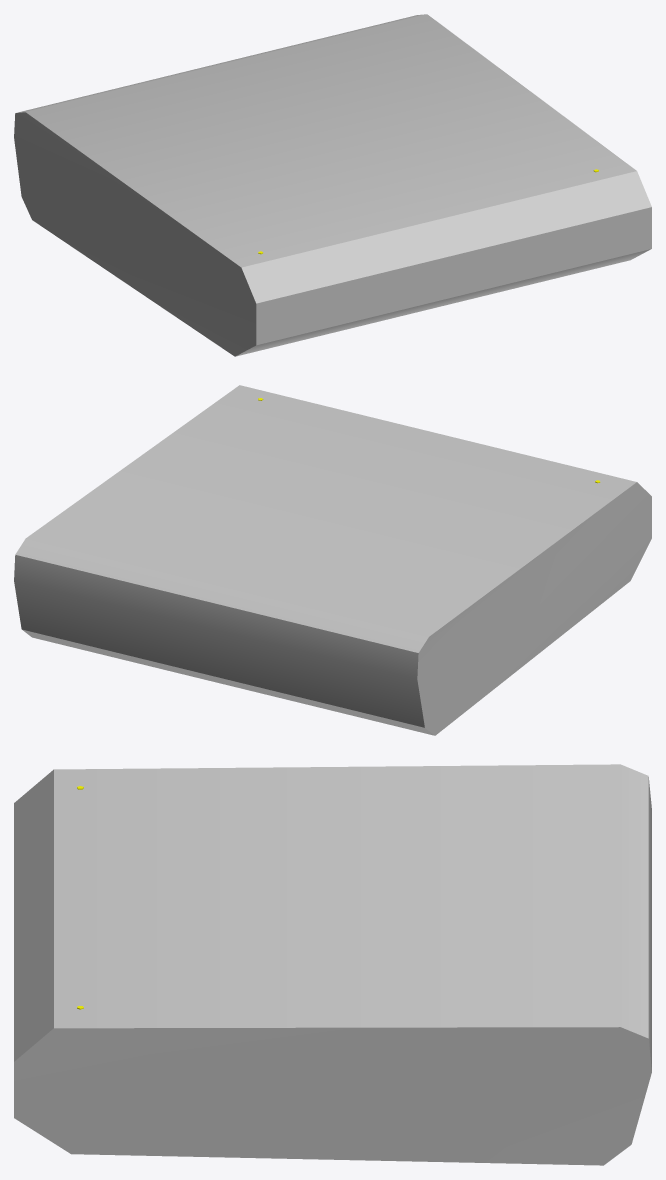
File: sm_hana_acs_control_panel.glb
3 renders of one model, top to bottom at view 1: azimuth 30°, elevation 25°; view 2: azimuth 150°, elevation 25°; view 3: azimuth 270°, elevation 25°, orthographic. The views are drawn at different scales.
Parts seen in each view (by area): view 1: sm_color_common; view 2: sm_color_common; view 3: sm_color_common.
Part boxes in pixels (box(x1,y1,x2,y2)): sm_color_common: box(14, 14, 651, 356); sm_color_common: box(14, 385, 651, 735); sm_color_common: box(14, 764, 651, 1165).
Bounding box in the file's own units: 0.5976 × 0.1468 × 0.6132.
Materials: 3 (1 with a texture image).
